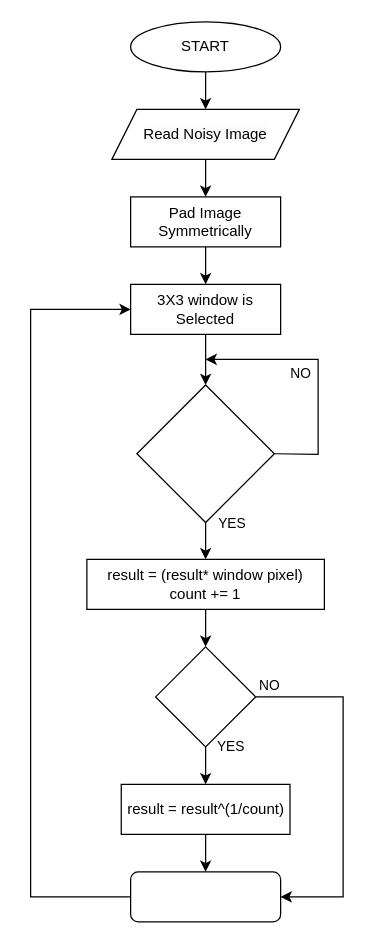
The diagram is 375 pixels wide and 944 high, and some of its shapes have lost their labels. The shapes that lost their labels are listed below. From the top down, each one's centre as x and y in pixels, then its label:
At [205,453]: "Window pixel != 255 or 0".
At [205,696]: "count != 0".
At [205,896]: "Denoised Image".
